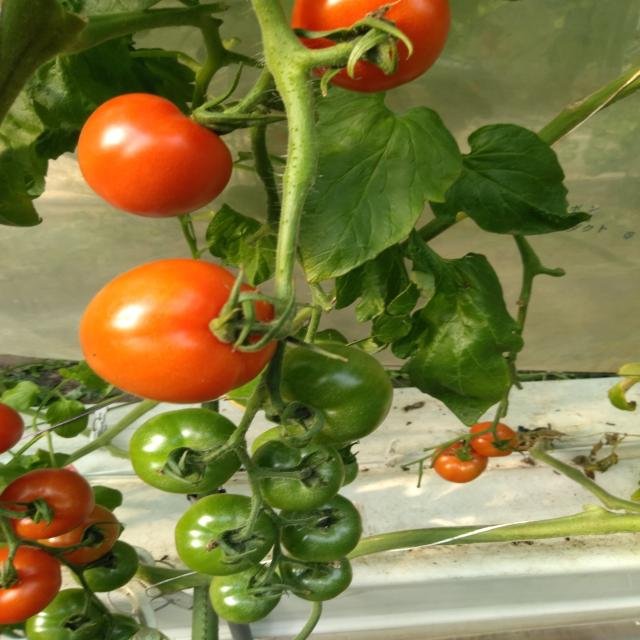c-half-riped: (34, 503, 120, 566), (430, 441, 488, 483), (468, 421, 518, 457)
c-riped: (78, 259, 277, 405), (76, 93, 234, 218), (292, 0, 452, 93), (0, 468, 96, 540), (1, 545, 62, 624), (1, 402, 24, 454)
c-unriped: (271, 342, 395, 444), (129, 408, 247, 494), (175, 494, 278, 576), (247, 436, 346, 512), (277, 493, 363, 562), (210, 563, 284, 625), (26, 588, 102, 640), (70, 540, 138, 592), (282, 551, 352, 601)
